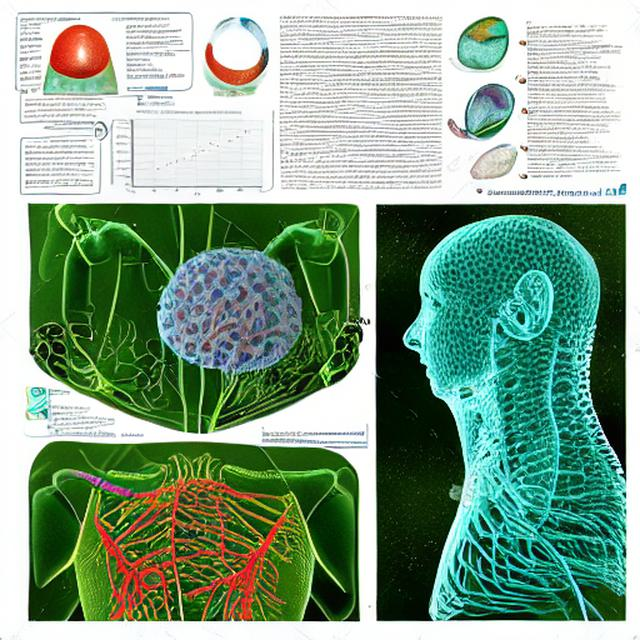Graph: (107, 108, 270, 202)
